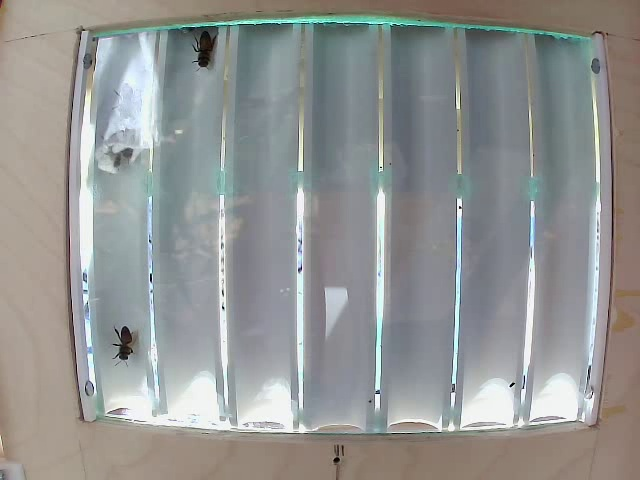bee: (100, 327, 151, 365), (194, 13, 222, 79)
